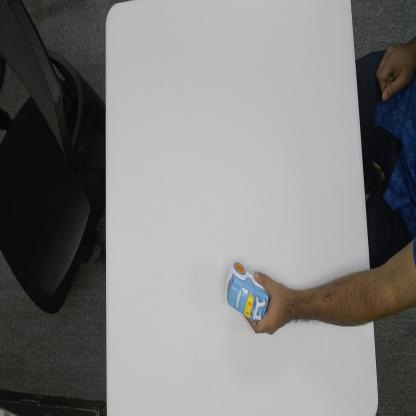Arm: (294, 266, 372, 332)
Car: (225, 260, 270, 323)
Hand: (251, 268, 292, 336)
